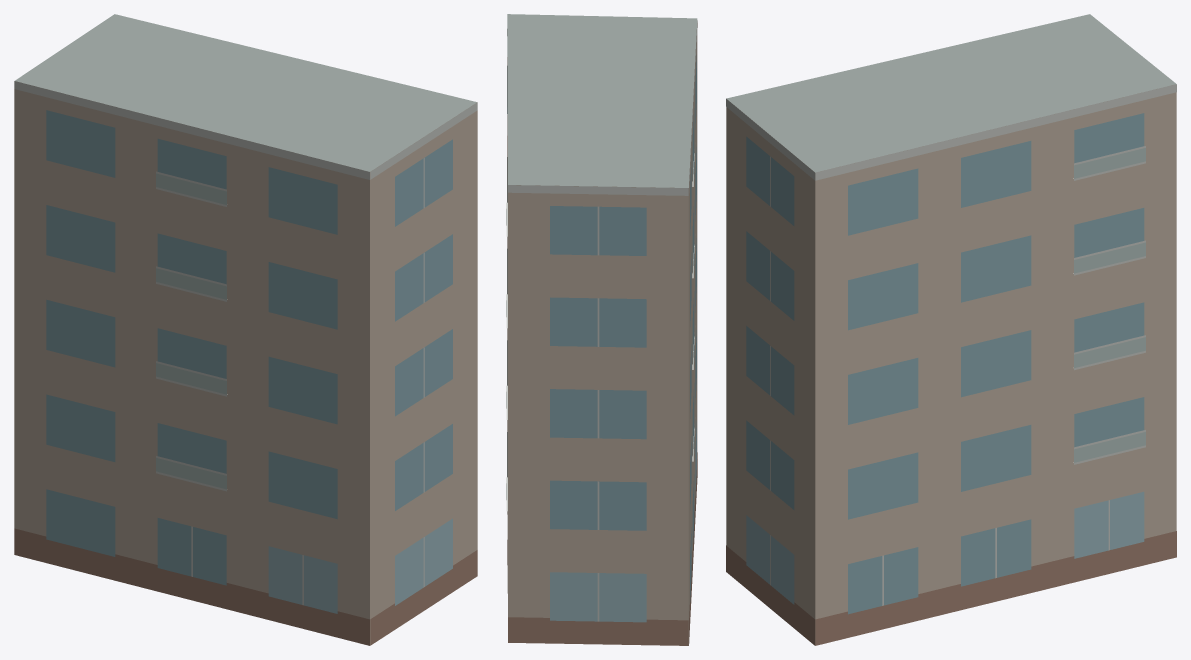
The model's file is survey-upis-32738243.glb.
3 renders of one model, left to right at view 1: azimuth 30°, elevation 25°; view 2: azimuth 150°, elevation 25°; view 3: azimuth 270°, elevation 25°, orthographic. The views are drawn at different scales.
Parts seen in each view (by area): view 1: survey-upis-32738243.tmp; view 2: survey-upis-32738243.tmp; view 3: survey-upis-32738243.tmp.
Part boxes in pixels (x1,y1,x2,y2): survey-upis-32738243.tmp: [14, 14, 477, 645]; survey-upis-32738243.tmp: [506, 14, 697, 645]; survey-upis-32738243.tmp: [726, 14, 1176, 645].
Size of the model in its own units: 10.22 by 14.2 by 12.26.
